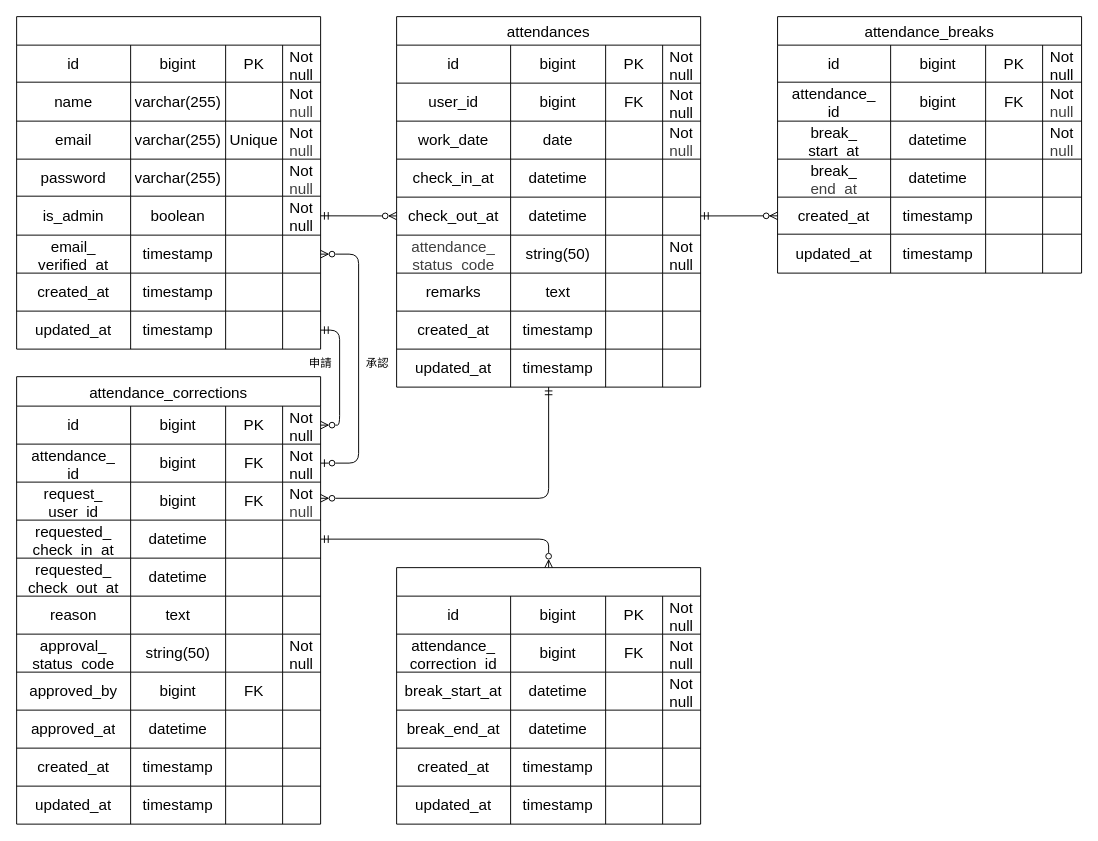
Some shapes in this 1098 by 841 pixel diagram are drawn without their labels. Here are the shapes that lost their labels. From the top down, the box of each, then its label:
(16, 16, 321, 349): users
(396, 567, 701, 824): break_corrections
